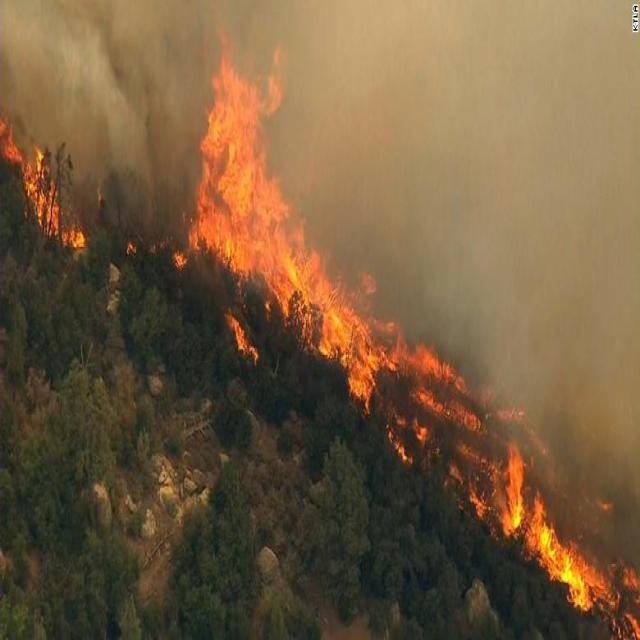Fire: (276, 214, 372, 412), (385, 342, 485, 509), (504, 464, 610, 616), (202, 70, 272, 278), (4, 128, 68, 252), (226, 312, 258, 361), (172, 250, 188, 270)
Smoke: (400, 0, 640, 292), (280, 0, 397, 208), (91, 5, 194, 184), (4, 5, 84, 120)
